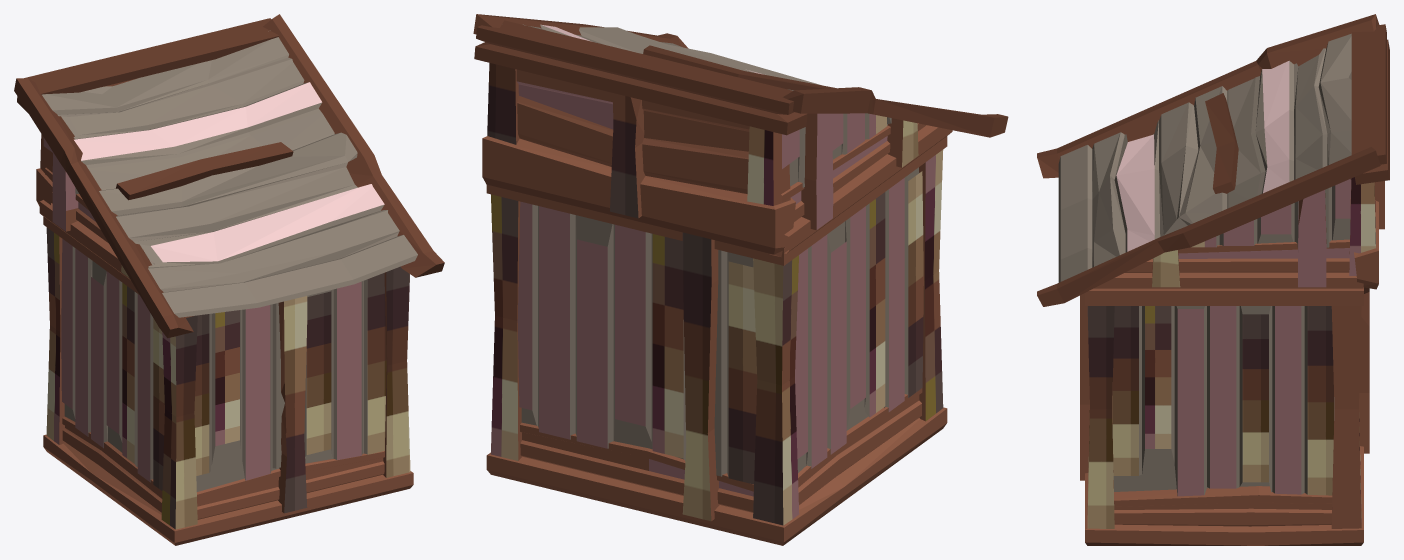
Rendered from SM_Bld_Shanty_SideAttachment_03.glb.
3 views of the same model, side by side, from view 1: azimuth 30°, elevation 25°; view 2: azimuth 150°, elevation 25°; view 3: azimuth 270°, elevation 25° (orthographic). The views are drawn at different scales.
Parts seen in each view (by area): view 1: SM_Bld_Shanty_SideAttachment_03_00; view 2: SM_Bld_Shanty_SideAttachment_03_00; view 3: SM_Bld_Shanty_SideAttachment_03_00.
Boxes of the visible parts, x1=… form: SM_Bld_Shanty_SideAttachment_03_00: x1=14, y1=14, x2=444, y2=545; SM_Bld_Shanty_SideAttachment_03_00: x1=473, y1=14, x2=1008, y2=545; SM_Bld_Shanty_SideAttachment_03_00: x1=1037, y1=14, x2=1389, y2=545.
Size of the model in its own units: 3.01 by 3.92 by 3.15.
Materials: 1 (1 with a texture image).
